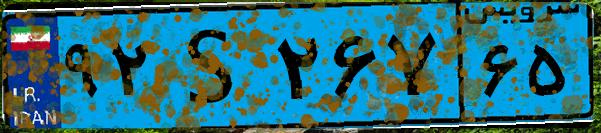2: (270, 28, 330, 110), (110, 28, 158, 98)
5: (525, 38, 570, 115)
6: (330, 28, 385, 110), (475, 38, 525, 113)
7: (385, 28, 445, 110)
9: (57, 26, 110, 100)
S: (158, 12, 270, 120)
